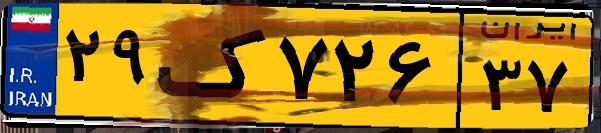2: (330, 28, 385, 110), (57, 26, 110, 100)
3: (475, 38, 525, 113)
6: (385, 28, 445, 110)
7: (270, 28, 330, 110), (525, 38, 570, 115)
9: (110, 28, 158, 98)
ک: (158, 12, 270, 120)
